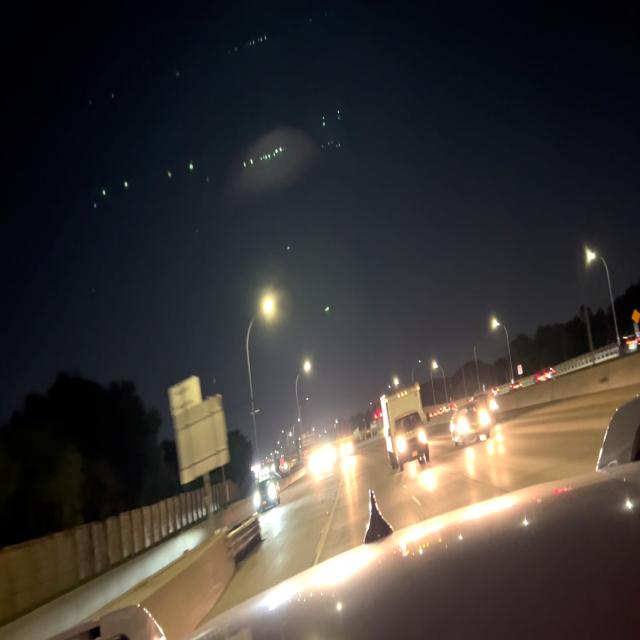back-of-sign: (167, 373, 231, 487)
